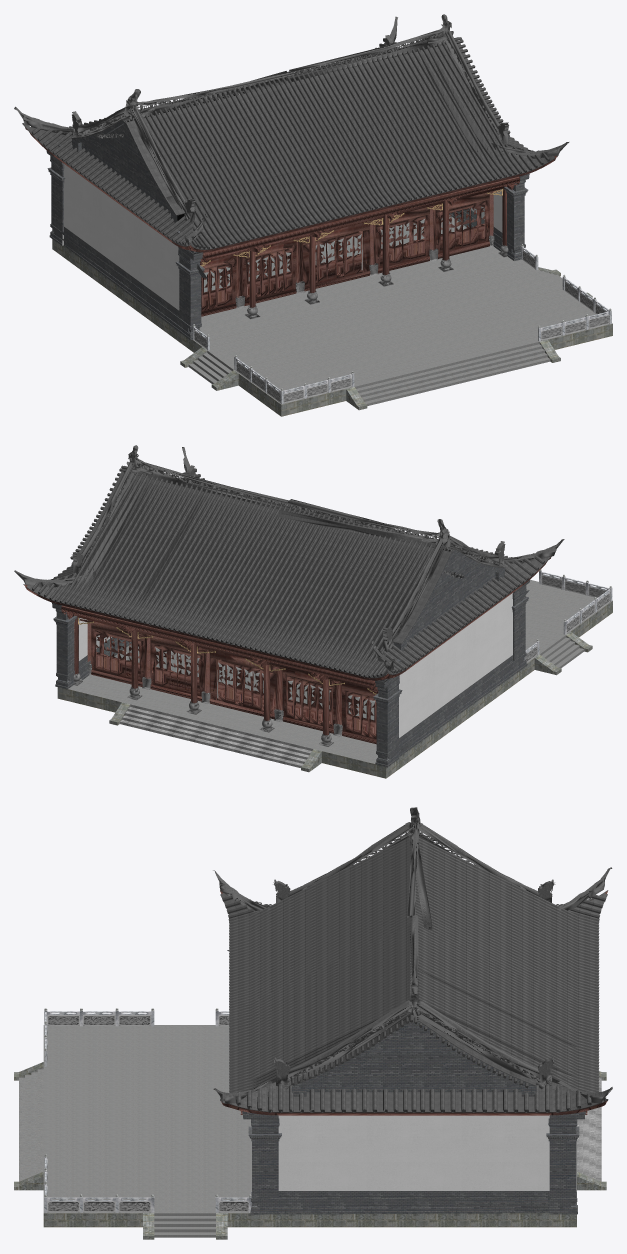
Rendered from temple.glb.
3 renders of one model, top to bottom at view 1: azimuth 30°, elevation 25°; view 2: azimuth 150°, elevation 25°; view 3: azimuth 270°, elevation 25°, orthographic. The views are drawn at different scales.
Parts seen in each view (by area): view 1: maps531, maps1704, maps009, maps062, maps693, maps513, maps1688, maps421, maps423, maps251, maps271, maps536; view 2: maps531, maps009, maps1704, maps062, maps693, maps513, maps1688, maps1702, maps251, maps421, maps271, maps423 (+1 smaller); view 3: maps531, maps1704, maps062, maps513, maps693, maps1688, maps421, maps423, maps1702, maps009, maps694, maps725.
Part boxes in pixels (x1=…): maps531: x1=22, y1=38, x2=558, y2=249; maps1704: x1=62, y1=215, x2=612, y2=405; maps009: x1=25, y1=127, x2=557, y2=316; maps062: x1=46, y1=119, x2=529, y2=340; maps693: x1=14, y1=14, x2=569, y2=245; maps513: x1=64, y1=164, x2=502, y2=310; maps1688: x1=52, y1=239, x2=612, y2=416; maps421: x1=194, y1=251, x2=609, y2=403; maps423: x1=192, y1=246, x2=611, y2=404; maps251: x1=62, y1=235, x2=508, y2=326; maps271: x1=204, y1=207, x2=483, y2=291; maps536: x1=32, y1=132, x2=549, y2=249; maps531: x1=23, y1=468, x2=550, y2=678; maps009: x1=24, y1=464, x2=551, y2=744; maps1704: x1=68, y1=580, x2=612, y2=763; maps062: x1=51, y1=549, x2=529, y2=767; maps693: x1=14, y1=445, x2=564, y2=670; maps513: x1=79, y1=593, x2=512, y2=737; maps1688: x1=57, y1=601, x2=612, y2=778; maps1702: x1=120, y1=704, x2=313, y2=767; maps251: x1=71, y1=664, x2=342, y2=746; maps421: x1=525, y1=575, x2=610, y2=662; maps271: x1=97, y1=636, x2=374, y2=719; maps423: x1=523, y1=571, x2=612, y2=658; maps531: x1=220, y1=832, x2=608, y2=1112; maps1704: x1=19, y1=1025, x2=576, y2=1237; maps062: x1=227, y1=950, x2=585, y2=1214; maps513: x1=278, y1=1115, x2=549, y2=1190; maps693: x1=213, y1=807, x2=612, y2=1103; maps1688: x1=14, y1=1062, x2=606, y2=1239; maps421: x1=47, y1=1015, x2=248, y2=1212; maps423: x1=44, y1=1010, x2=251, y2=1212; maps1702: x1=577, y1=1077, x2=601, y2=1181; maps009: x1=220, y1=891, x2=607, y2=1115; maps694: x1=291, y1=1014, x2=528, y2=1088; maps725: x1=273, y1=880, x2=555, y2=1075.
Bounding box in the file's own units: 36.3 × 18.58 × 41.97.
21 materials, 17 textured.
